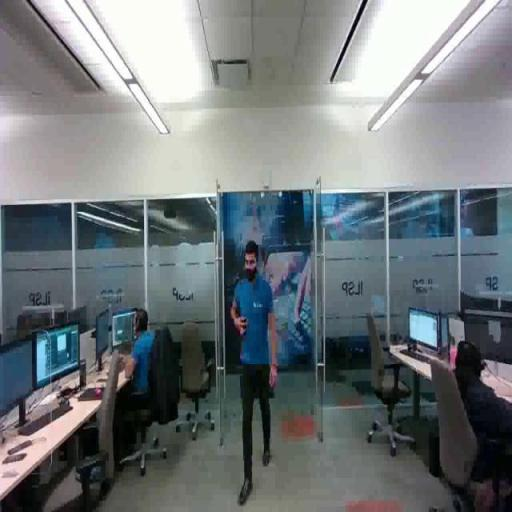person: (228, 238, 283, 506), (445, 340, 512, 496), (113, 303, 179, 433)
